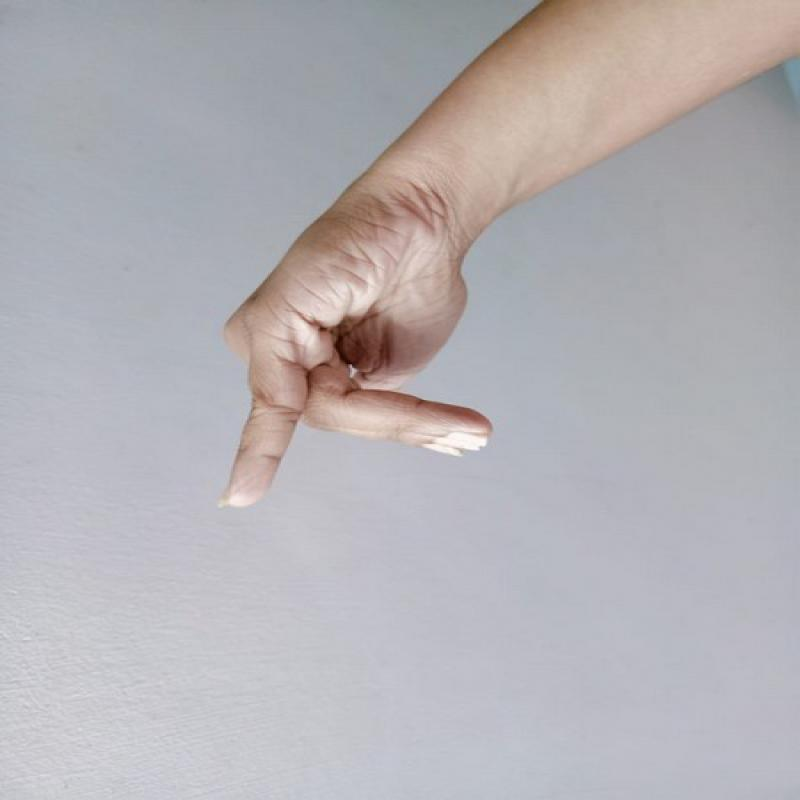Kartharee Mukham: (183, 189, 513, 522)
